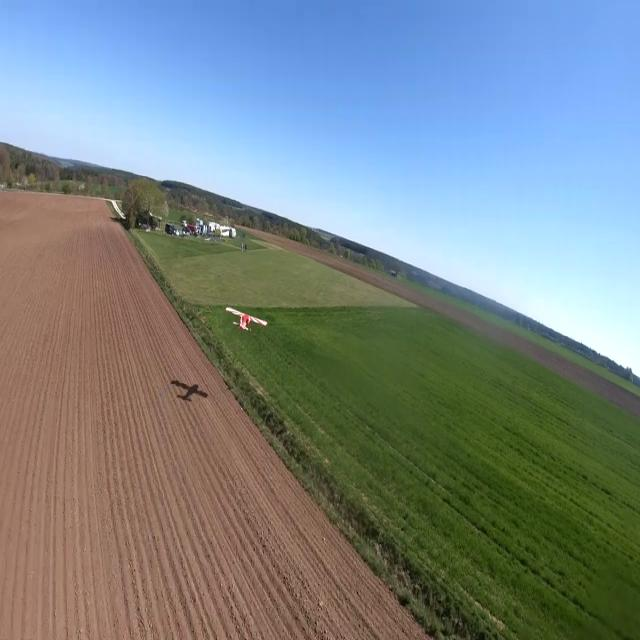iha: (224, 304, 268, 333)
